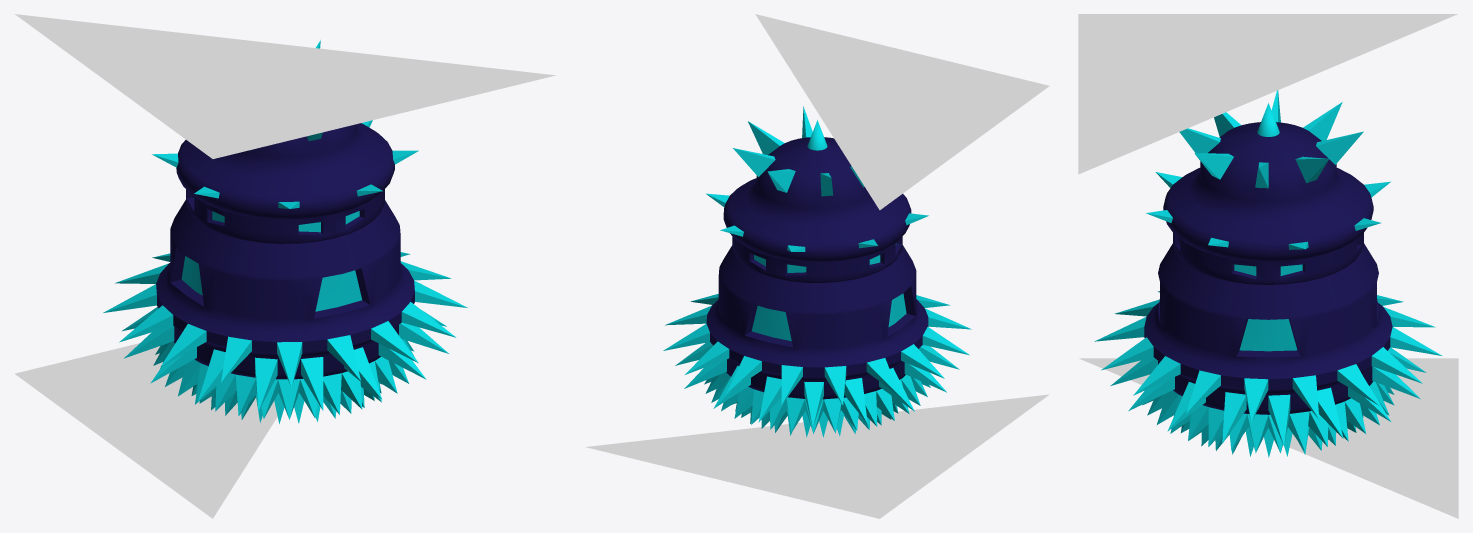
The model's file is hunter.fbx.
3 renders of one model, left to right at view 1: azimuth 30°, elevation 25°; view 2: azimuth 150°, elevation 25°; view 3: azimuth 270°, elevation 25°, orthographic. The views are drawn at different scales.
Visible parts, largest first — view 1: HUNTER; view 2: HUNTER; view 3: HUNTER.
Part boxes in pixels (x1=…): HUNTER: x1=15, y1=14, x2=555, y2=518; HUNTER: x1=585, y1=14, x2=1049, y2=518; HUNTER: x1=1078, y1=14, x2=1458, y2=518.
Bounding box in the file's own units: 800 × 800 × 800.
